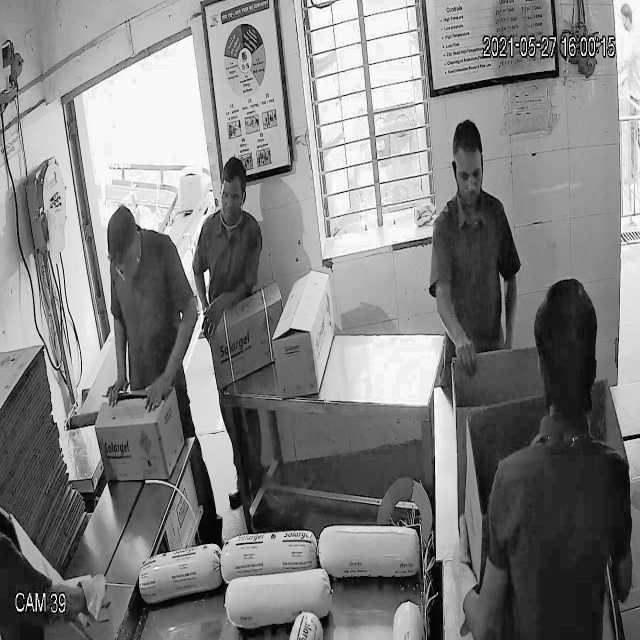Sin_gafas: (450, 156, 486, 187)
